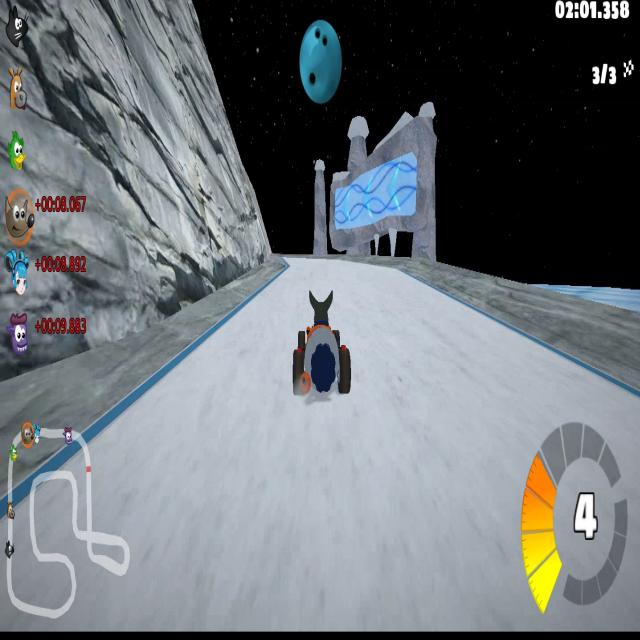player_kart: (296, 288, 352, 403)
track: (134, 406, 640, 634), (3, 506, 134, 625), (353, 285, 443, 397), (444, 313, 508, 401), (508, 368, 632, 404), (274, 278, 292, 401), (255, 296, 274, 404), (288, 267, 411, 283), (232, 320, 252, 404), (204, 347, 233, 404), (186, 363, 202, 406), (162, 367, 178, 404), (285, 251, 301, 267)
